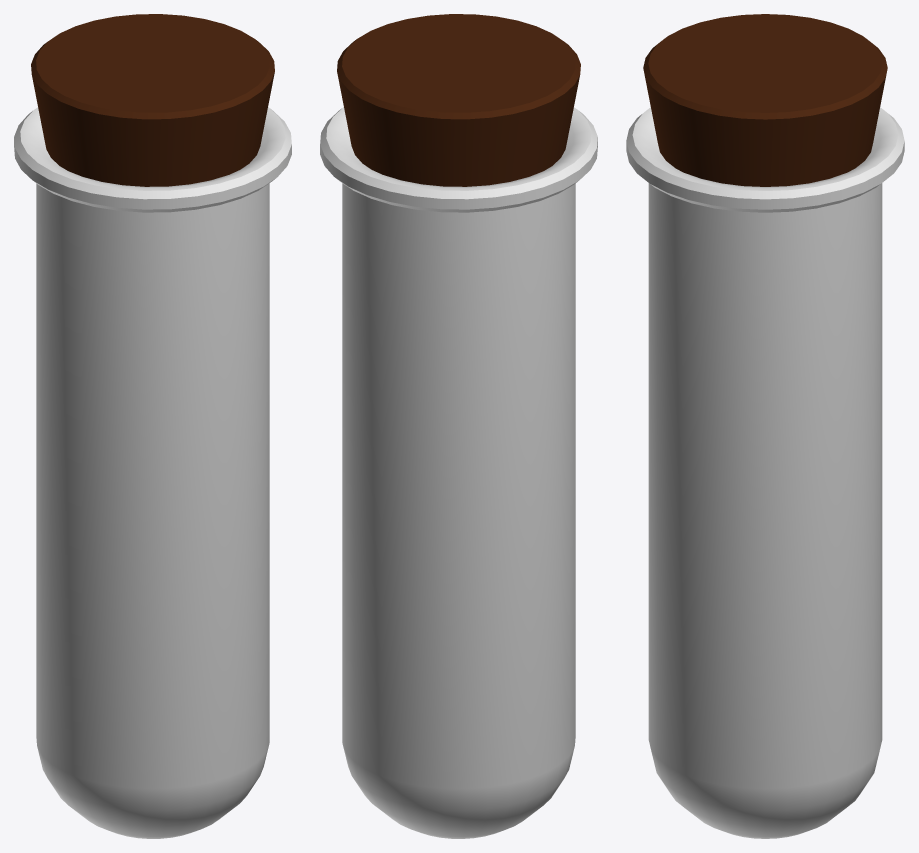
File: cyl_flask.glb
The picture shows the model from 3 angles, left to right: view 1: azimuth 30°, elevation 25°; view 2: azimuth 150°, elevation 25°; view 3: azimuth 270°, elevation 25°; orthographic projection.
Parts seen in each view (by area): view 1: TestTube_0, Cork_3_1; view 2: TestTube_0, Cork_3_1; view 3: TestTube_0, Cork_3_1.
Part boxes in pixels (x1=…): TestTube_0: x1=14, y1=107, x2=291, y2=838; Cork_3_1: x1=31, y1=14, x2=274, y2=186; TestTube_0: x1=320, y1=107, x2=597, y2=838; Cork_3_1: x1=337, y1=14, x2=580, y2=186; TestTube_0: x1=626, y1=107, x2=904, y2=838; Cork_3_1: x1=643, y1=14, x2=887, y2=186.
Size of the model in its own units: 0.0532 by 0.1605 by 0.0532.
